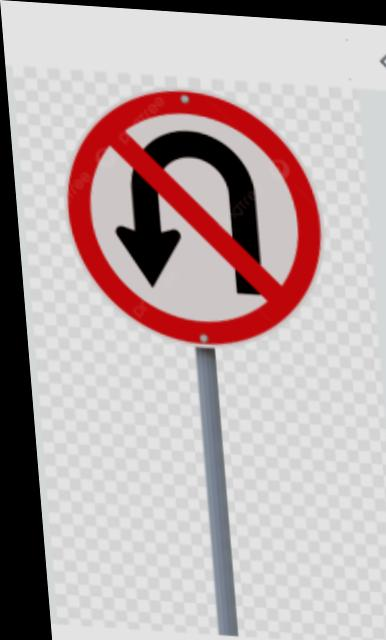not_u_turn_left: (58, 78, 334, 343)
